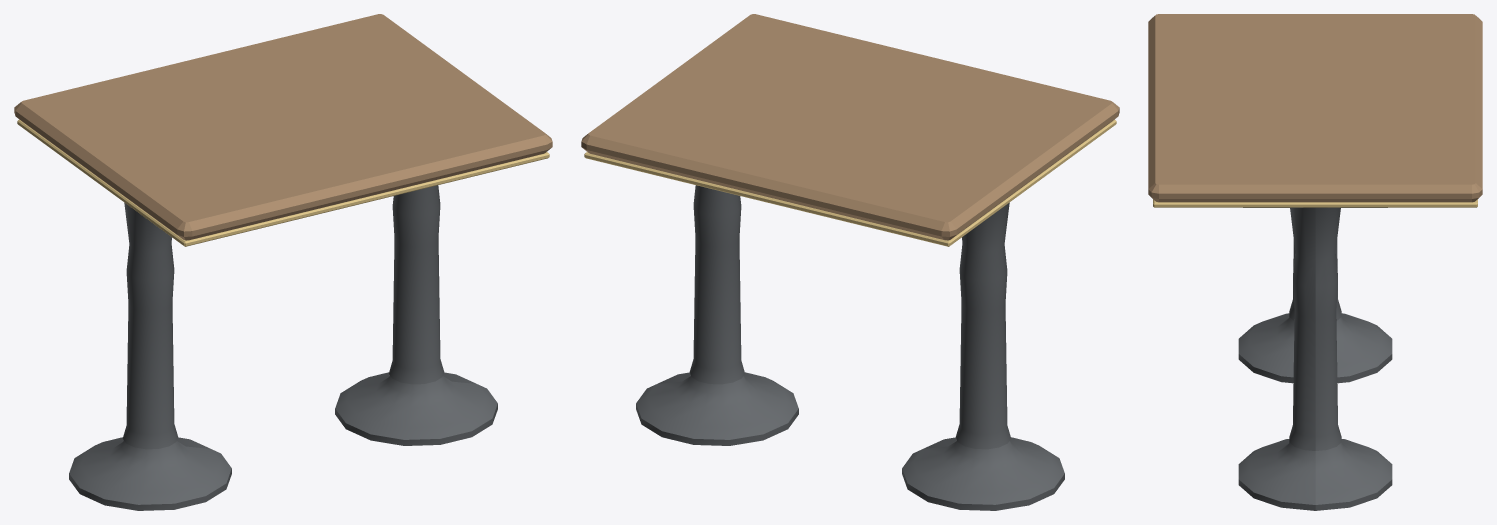
Rendered from bar-pub-and-brewery-taproom-pub-table-square-355a1361__18380.glb.
3 views of the same model, side by side, from view 1: azimuth 30°, elevation 25°; view 2: azimuth 150°, elevation 25°; view 3: azimuth 270°, elevation 25° (orthographic). The views are drawn at different scales.
Visible parts, largest first — view 1: pub-table-square; view 2: pub-table-square; view 3: pub-table-square.
Boxes of the visible parts, x1,y1,x2,y2 form: pub-table-square: (14, 14, 552, 510); pub-table-square: (581, 14, 1119, 510); pub-table-square: (1148, 14, 1482, 510).
Size of the model in its own units: 0.98 by 0.75 by 0.72.
